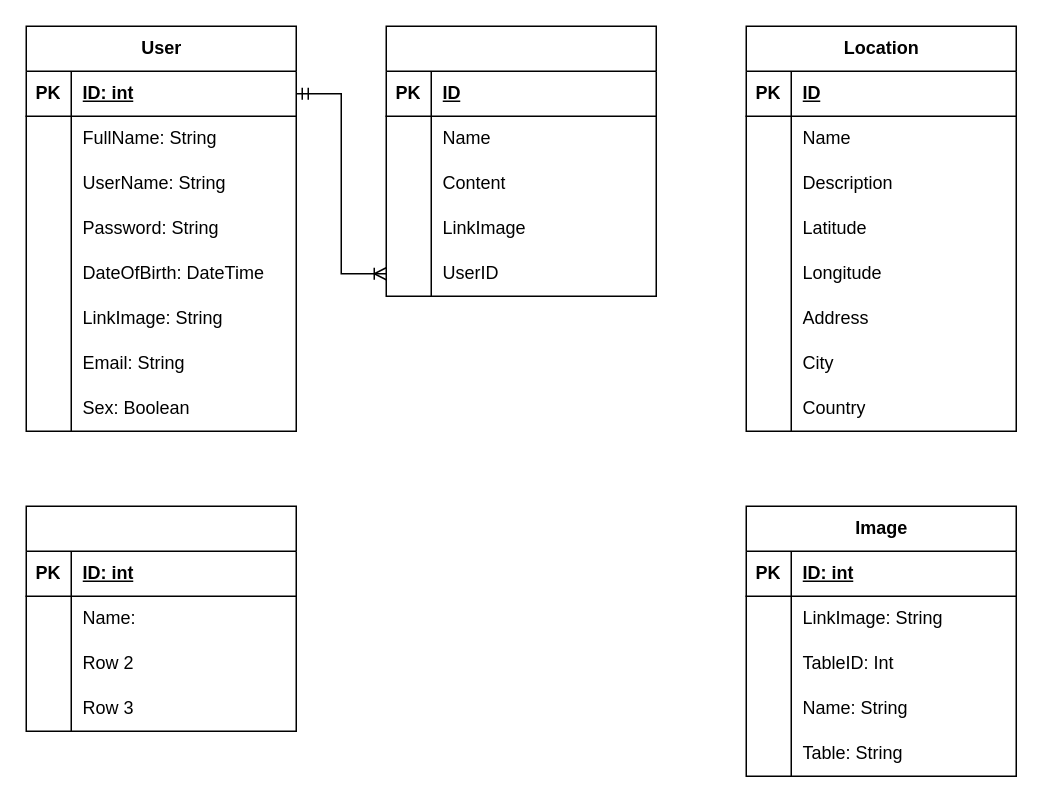
Some shapes in this 1043 by 803 pixel diagram are drawn without their labels. Each missing label, with the box of its shape:
Article: (385, 25, 656, 296)
Restaurant: (25, 505, 296, 731)
